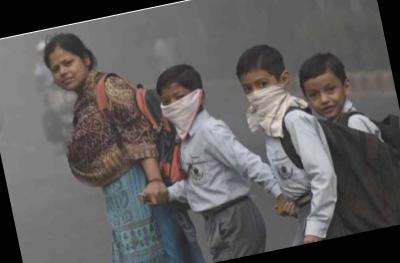with_mask: (156, 86, 198, 127), (241, 72, 282, 113)
without_mask: (302, 77, 350, 124), (48, 52, 89, 94)
